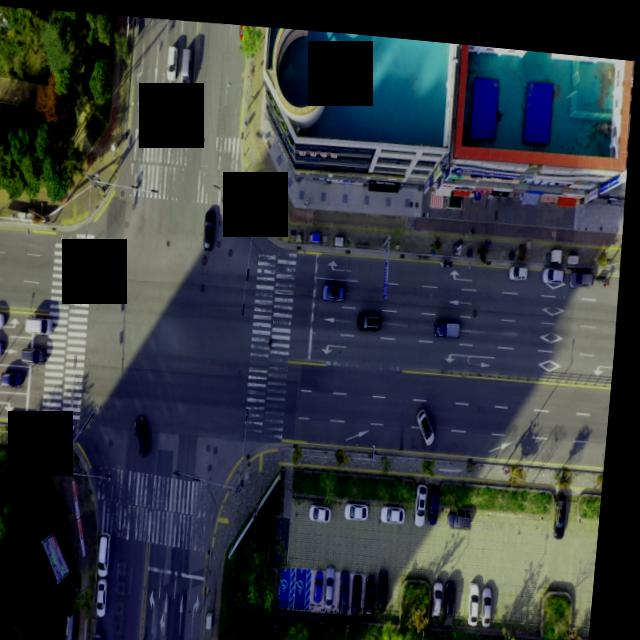car: (138, 405, 160, 455), (559, 480, 577, 528), (105, 526, 122, 574), (179, 42, 196, 89), (422, 400, 443, 438), (451, 570, 467, 616), (347, 562, 361, 607), (386, 559, 400, 604), (477, 571, 491, 615), (205, 204, 219, 247), (359, 564, 373, 607), (440, 569, 455, 608), (353, 491, 378, 514), (423, 476, 437, 517), (31, 314, 59, 334), (333, 558, 346, 601), (435, 477, 449, 516), (374, 566, 387, 607), (490, 575, 503, 615), (388, 495, 414, 515), (454, 501, 480, 521), (105, 577, 118, 616), (574, 257, 599, 277), (363, 305, 388, 324), (29, 347, 55, 365), (167, 42, 179, 77), (318, 497, 340, 516), (8, 369, 29, 388), (322, 563, 334, 596), (328, 277, 349, 295), (547, 255, 568, 273), (513, 254, 532, 269), (0, 311, 13, 331), (0, 341, 8, 360), (103, 629, 114, 640)
small_truck: (439, 311, 466, 329)
